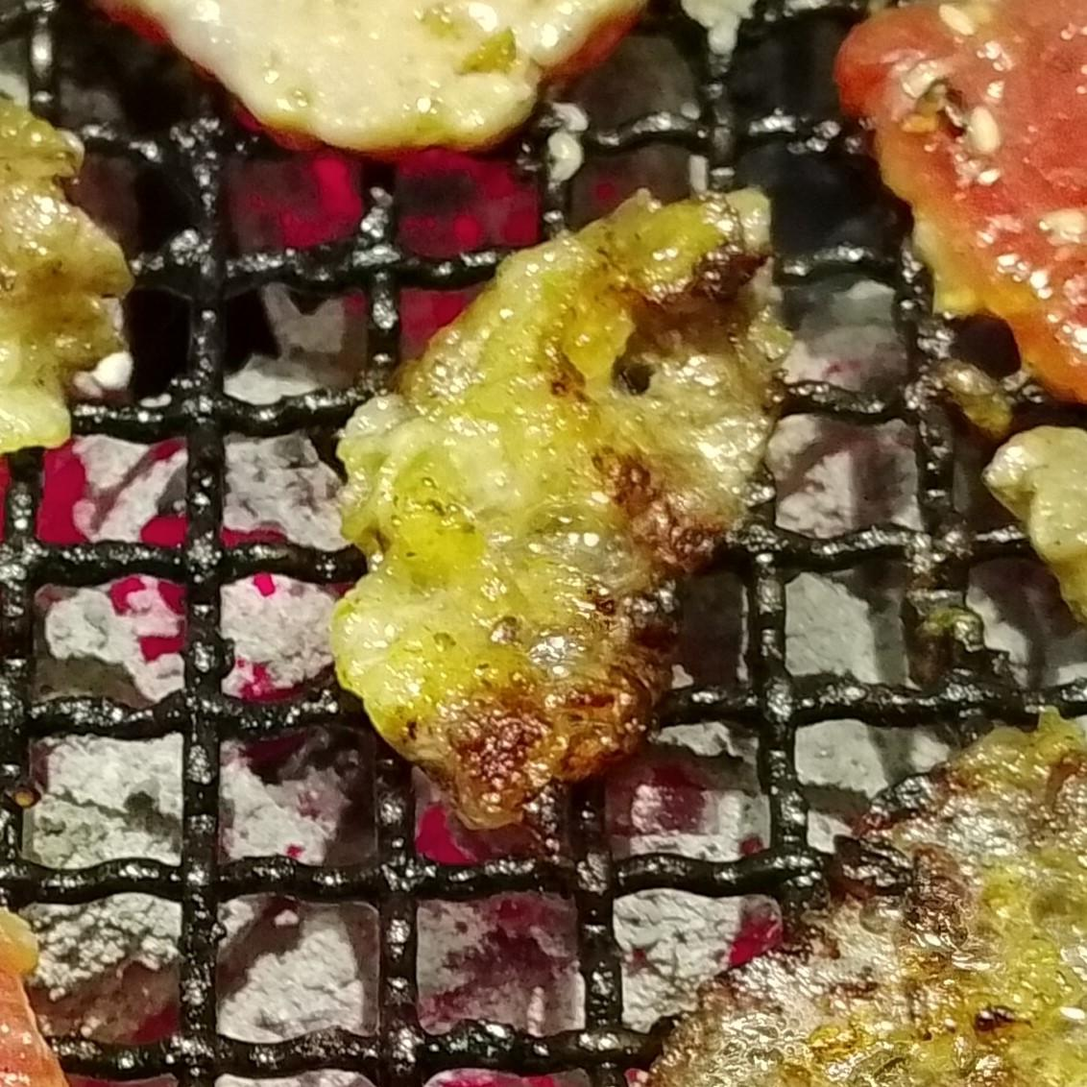Overcooked: (627, 711, 1086, 1086)
Undercooked: (833, 0, 1086, 413)
Well-Cooked: (321, 161, 801, 865), (0, 81, 133, 462)
